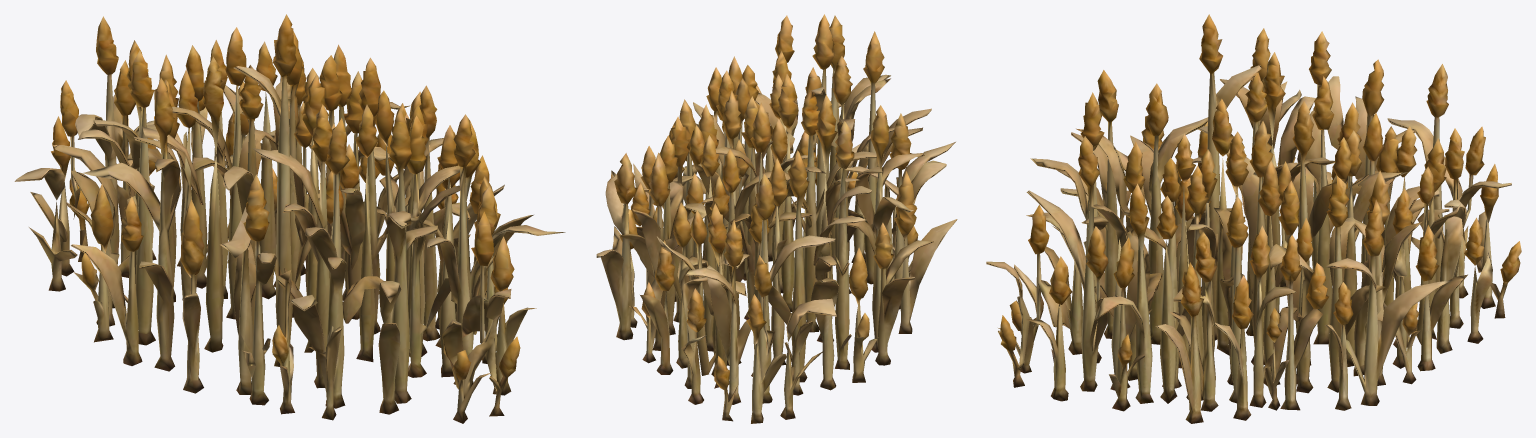
The model's file is wheat.glb.
3 renders of one model, left to right at view 1: azimuth 30°, elevation 25°; view 2: azimuth 150°, elevation 25°; view 3: azimuth 270°, elevation 25°, orthographic. The views are drawn at different scales.
Visible parts, largest first — view 1: tripo_node_917ce3d7-7453-469a-9d77-1dedc43ab41f; view 2: tripo_node_917ce3d7-7453-469a-9d77-1dedc43ab41f; view 3: tripo_node_917ce3d7-7453-469a-9d77-1dedc43ab41f.
Part boxes in pixels (x1,y1,x2,y2): tripo_node_917ce3d7-7453-469a-9d77-1dedc43ab41f: [14, 14, 565, 423]; tripo_node_917ce3d7-7453-469a-9d77-1dedc43ab41f: [596, 14, 957, 423]; tripo_node_917ce3d7-7453-469a-9d77-1dedc43ab41f: [986, 14, 1521, 423].
Bounding box in the file's own units: 0.7596 × 0.6671 × 1.
Materials: 1 (1 with a texture image).
